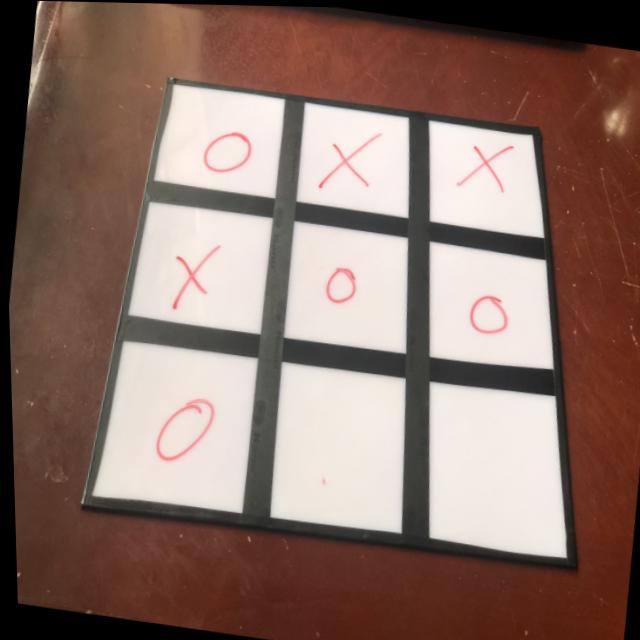null: (426, 378, 565, 557), (266, 358, 404, 531)
o: (148, 390, 216, 476), (198, 119, 255, 180), (462, 286, 510, 339), (318, 258, 361, 309)
table: (79, 73, 631, 568)
x: (310, 121, 386, 200), (165, 227, 224, 320), (450, 129, 521, 199)
